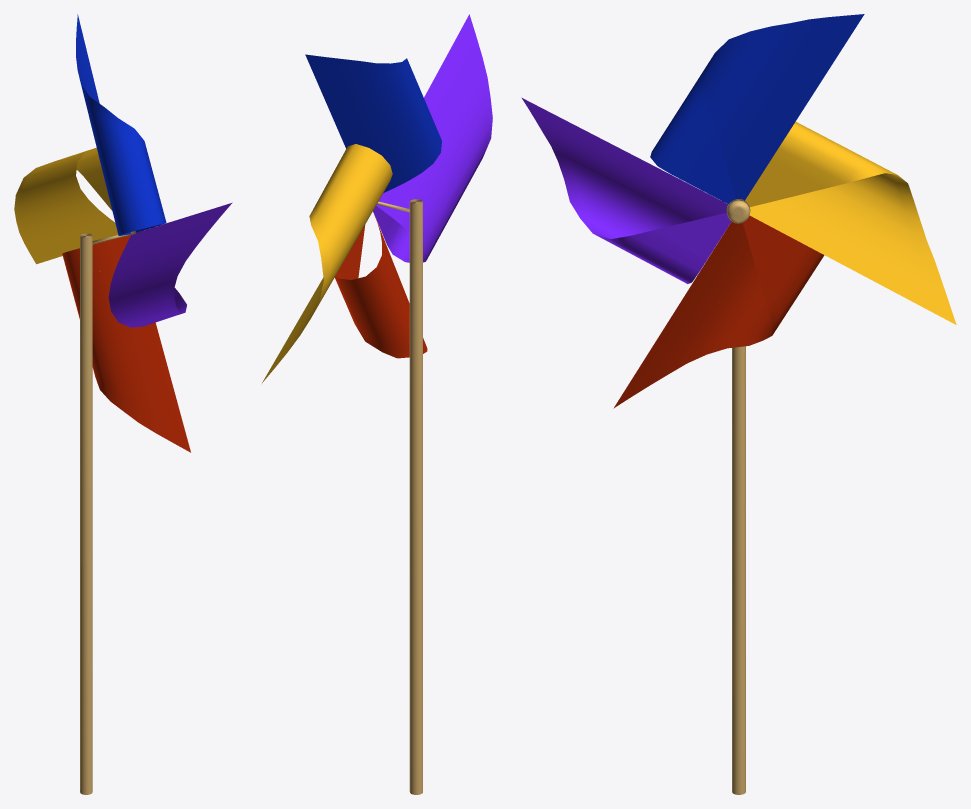
File: Pinwheel.fbx
3 views of the same model, side by side, from view 1: azimuth 30°, elevation 25°; view 2: azimuth 150°, elevation 25°; view 3: azimuth 270°, elevation 25° (orthographic). The views are drawn at different scales.
Visible parts, largest first — view 1: Plane, Cylinder; view 2: Plane, Cylinder; view 3: Plane, Cylinder.
Part boxes in pixels (x1,y1,x2,y2): Plane: [14, 14, 232, 452]; Cylinder: [80, 231, 136, 794]; Plane: [262, 14, 492, 382]; Cylinder: [377, 199, 422, 794]; Plane: [521, 14, 956, 408]; Cylinder: [726, 199, 750, 794].
Size of the model in its own units: 44.96 by 518 by 254.
